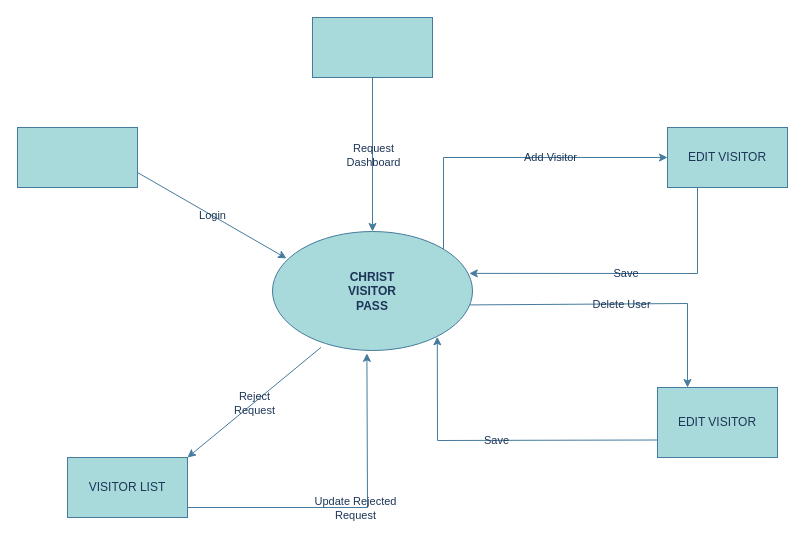
Some shapes in this 805 by 538 pixel diagram are drawn without their labels. Here are the shapes that lost their labels. From the top down, the centre of each, then its label:
At point 372,47: "SHOW DASHBOARD".
At point 77,157: "ADMIN".
